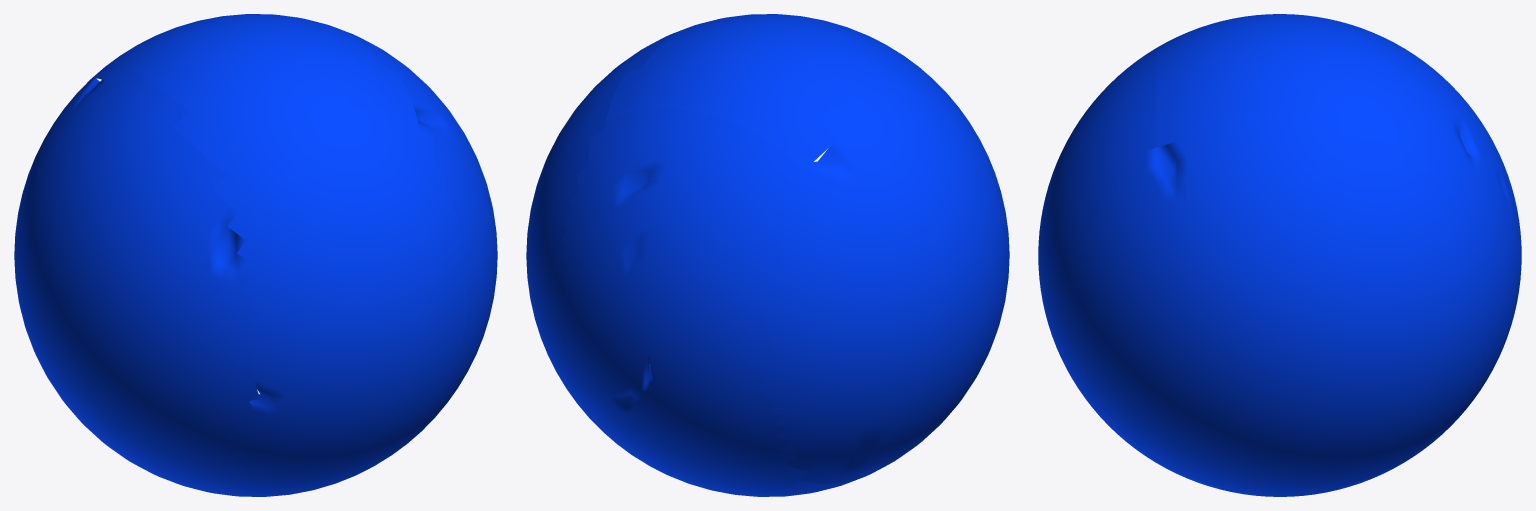
Rendered from sphere_blue_02.glb.
3 views of the same model, side by side, from view 1: azimuth 30°, elevation 25°; view 2: azimuth 150°, elevation 25°; view 3: azimuth 270°, elevation 25° (orthographic).
Parts seen in each view (by area): view 1: sphere_01 (1); view 2: sphere_01 (1); view 3: sphere_01 (1).
Part boxes in pixels (x1,y1,x2,y2): sphere_01 (1): (14, 14, 497, 496); sphere_01 (1): (526, 14, 1009, 496); sphere_01 (1): (1038, 14, 1521, 496).
Size of the model in its own units: 2 by 2 by 2.
